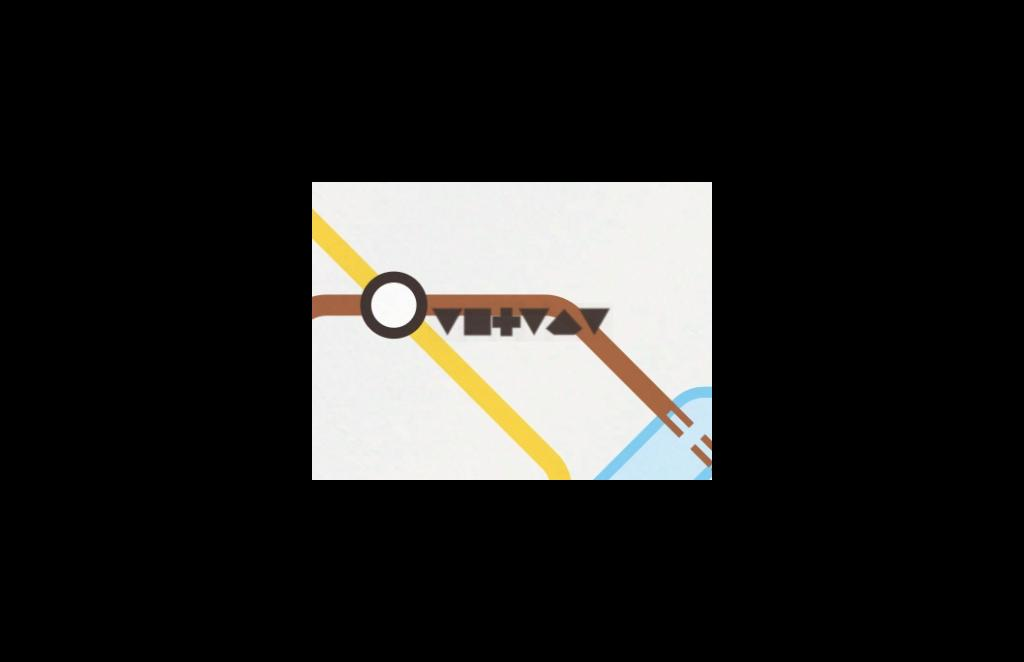connected_station: (343, 267, 430, 356)
tunnel: (647, 376, 712, 480), (312, 283, 331, 406), (530, 477, 593, 480)
